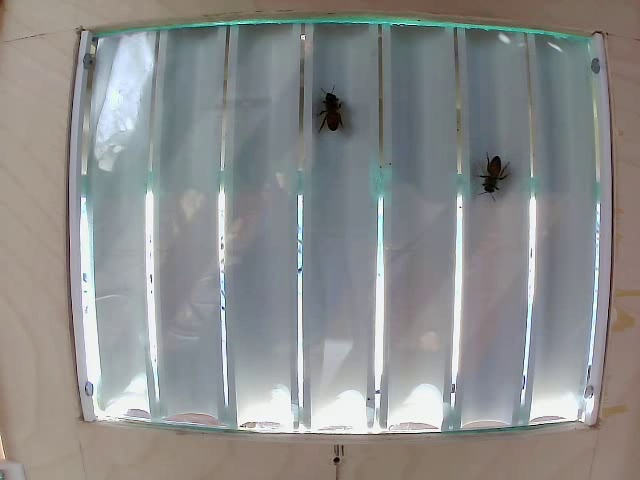bee: (315, 88, 354, 137), (473, 153, 506, 201)
